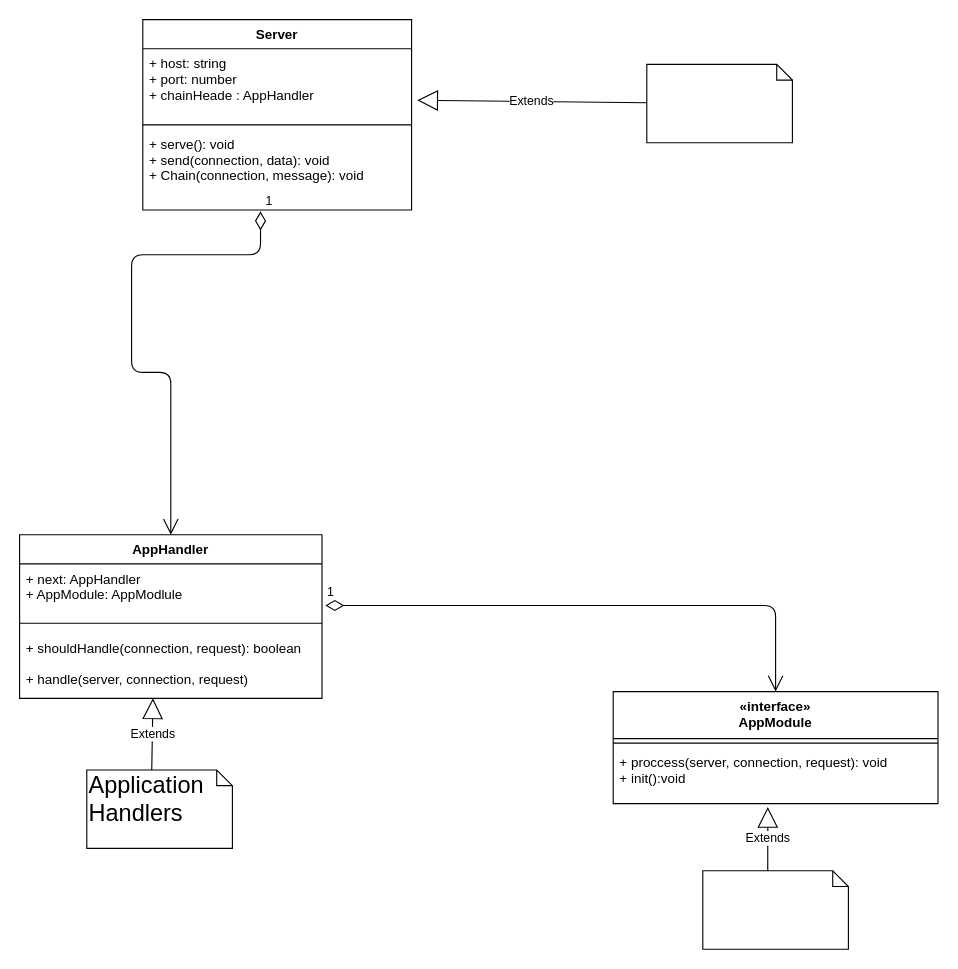
This 958x969 diagram has some shape labels left out. Here are the shapes that lost their labels. From the top down, the centre of each, then its label:
At point (719, 103): "Node Servers".
At point (775, 909): "Application Modules".
